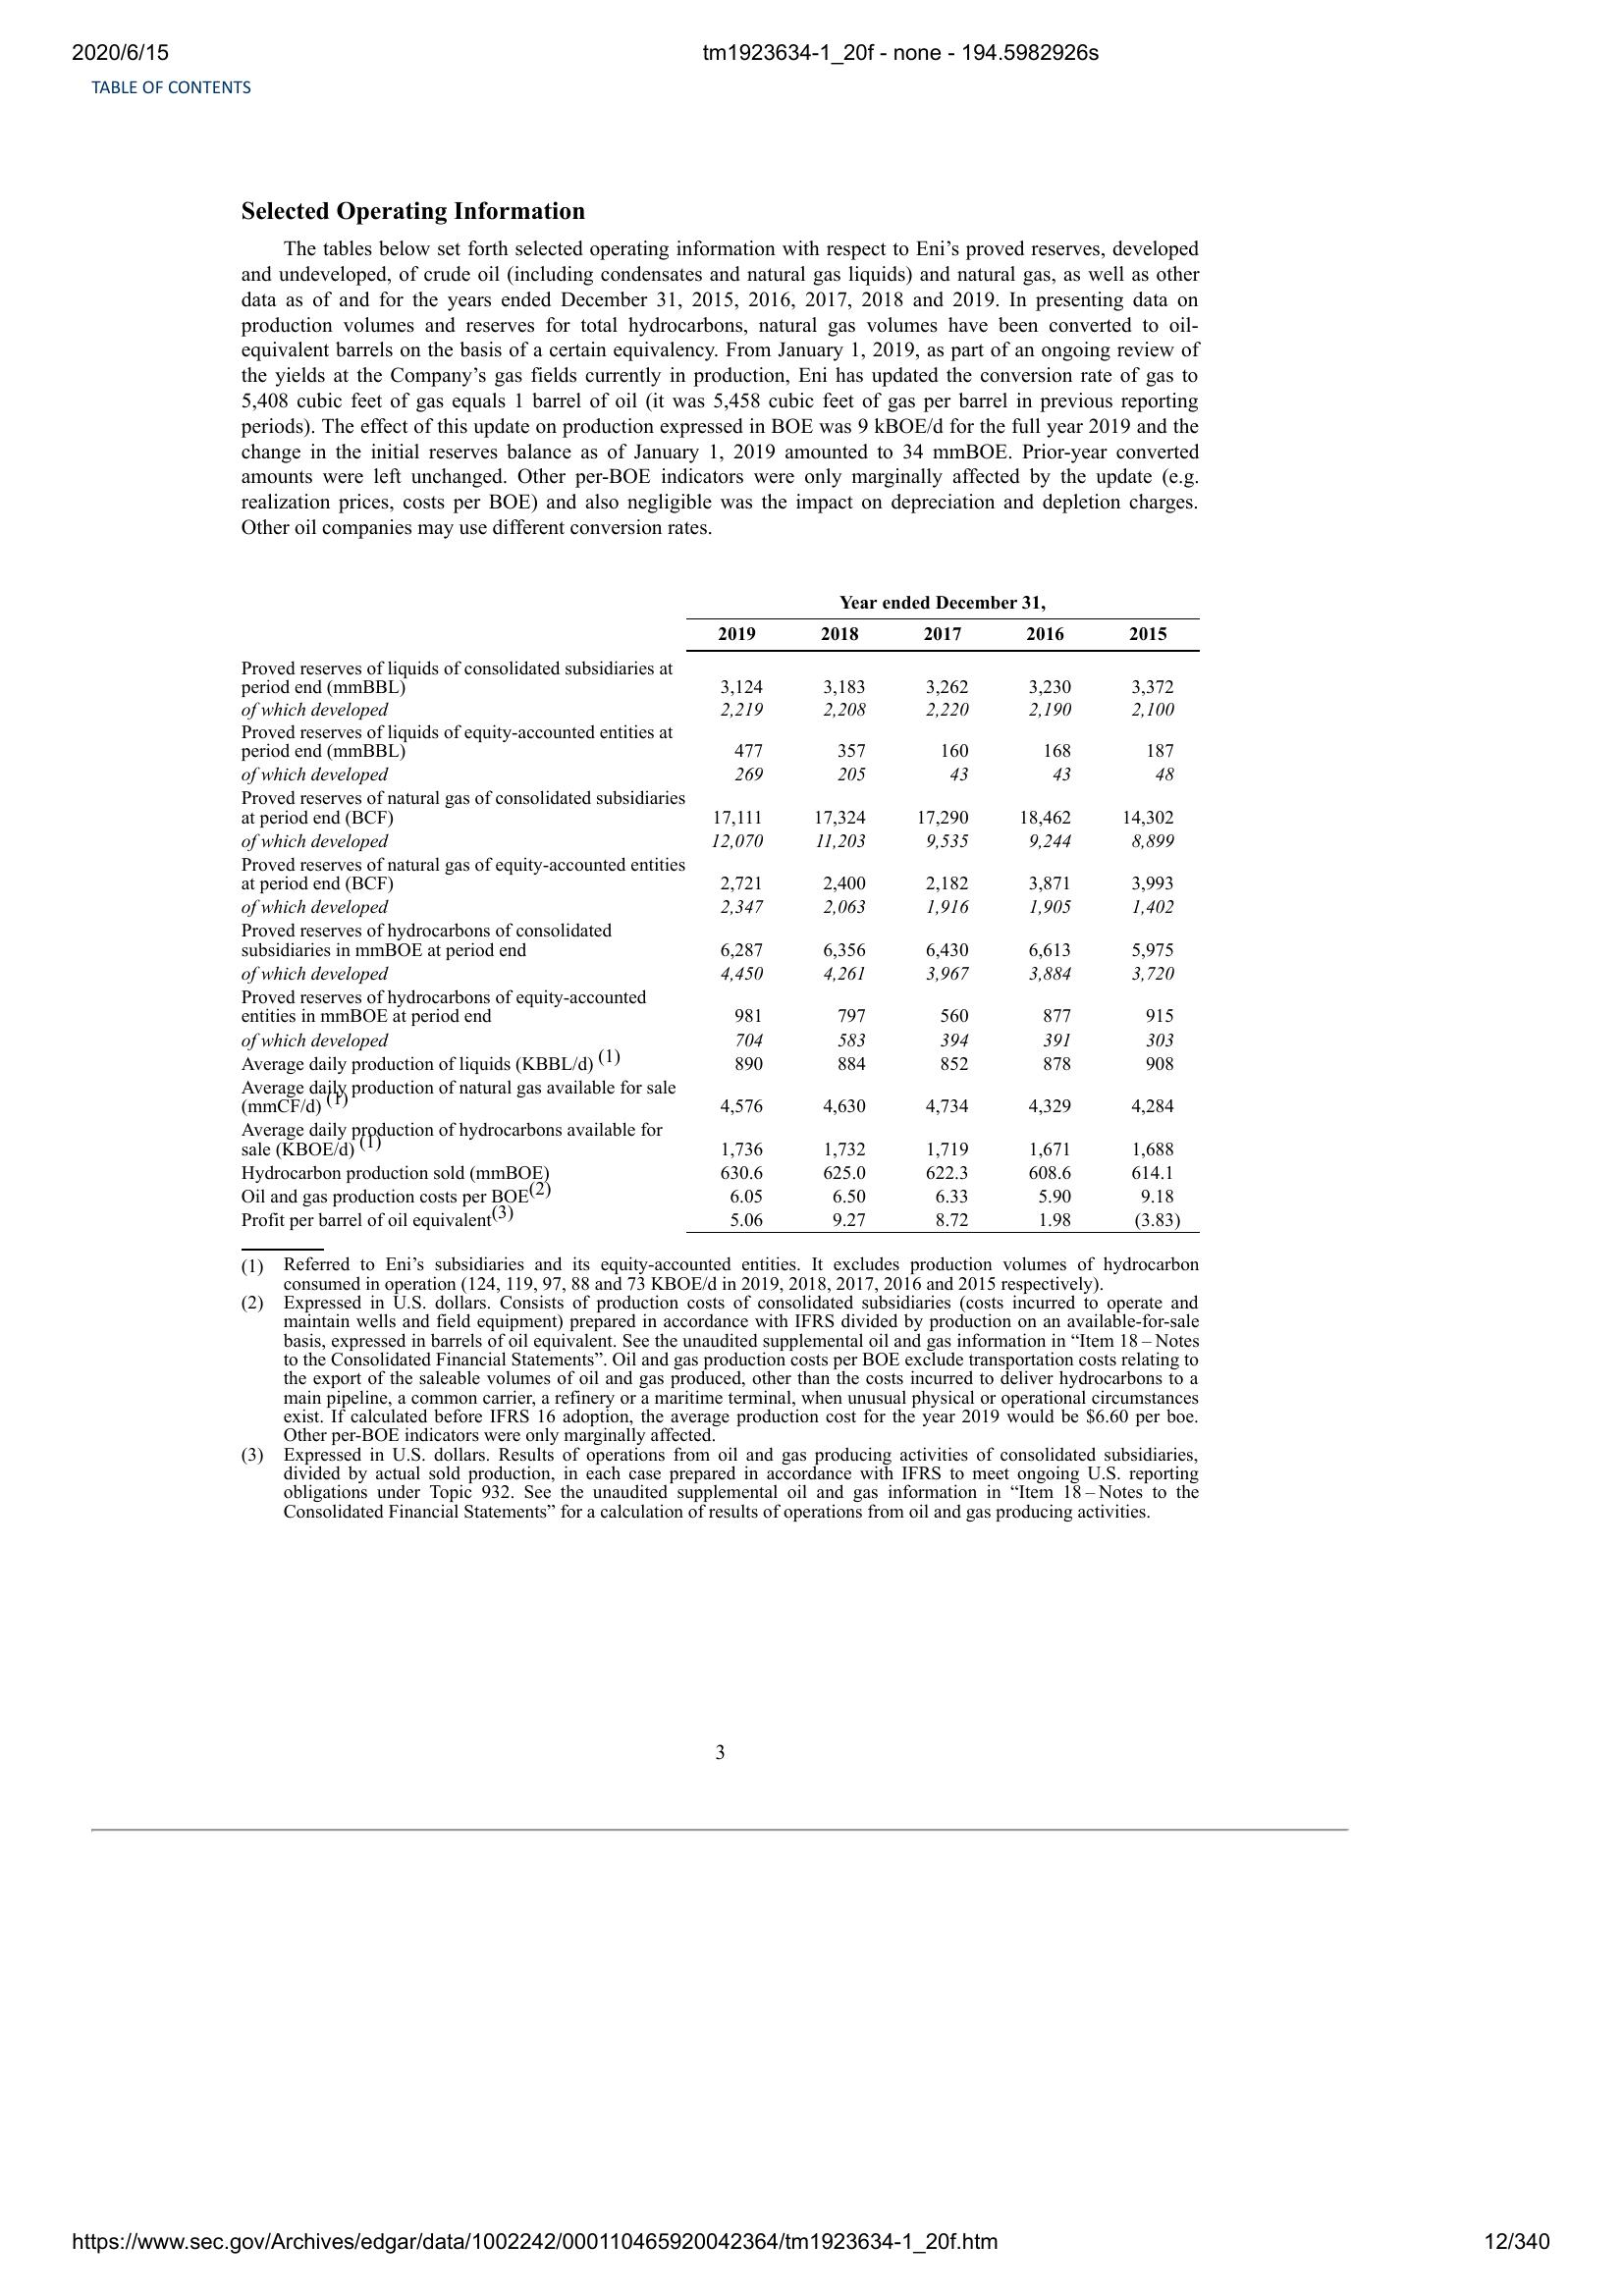table: (235, 586, 1205, 1239)
